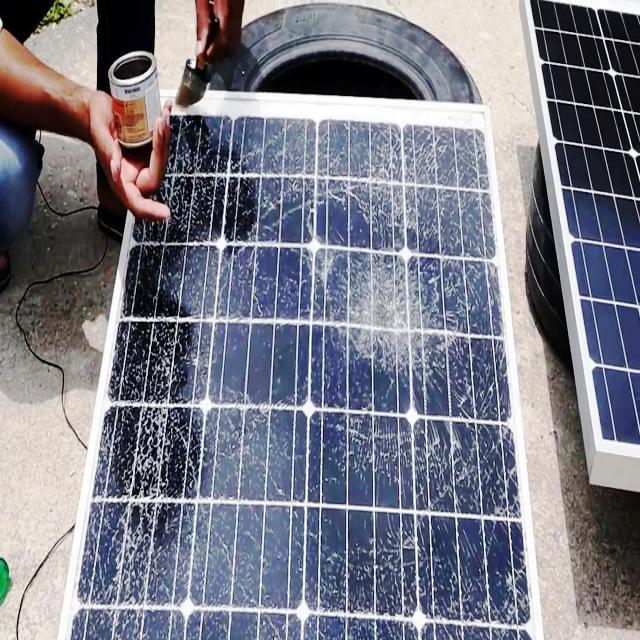faulty: (66, 92, 540, 638)
no faulty: (524, 2, 640, 454)
